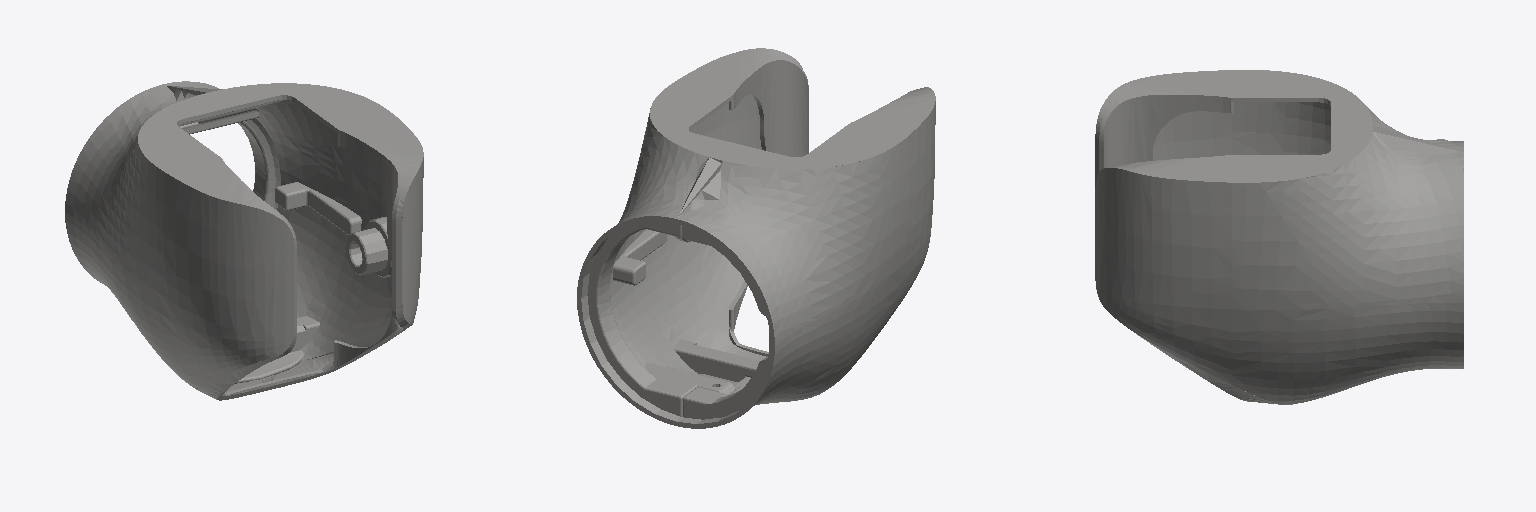
3 renders of one model, left to right at view 1: azimuth 30°, elevation 25°; view 2: azimuth 150°, elevation 25°; view 3: azimuth 270°, elevation 25°, orthographic.
Parts seen in each view (by area): view 1: right_arm_link2; view 2: right_arm_link2; view 3: right_arm_link2.
Boxes of the visible parts, <box> form: right_arm_link2: <box>65,81,423,400</box>; right_arm_link2: <box>577,48,935,428</box>; right_arm_link2: <box>1095,70,1463,404</box>.
Bounding box in the file's own units: 0.1086 × 0.1148 × 0.1483.
1 materials, 1 textured.